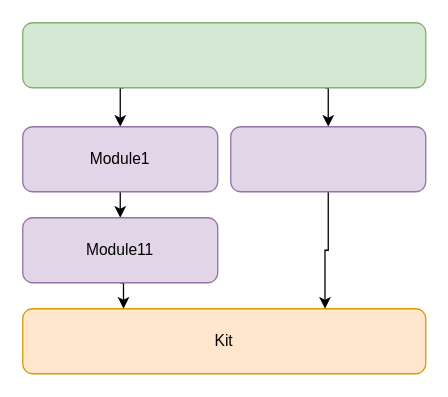
Image size: 448x397. Some labels were removed from this diagram. Here are the shapes that lost their labels. From the top down, the centre of each, then its label:
the point at 223,54: Core
the point at 327,158: Module2
